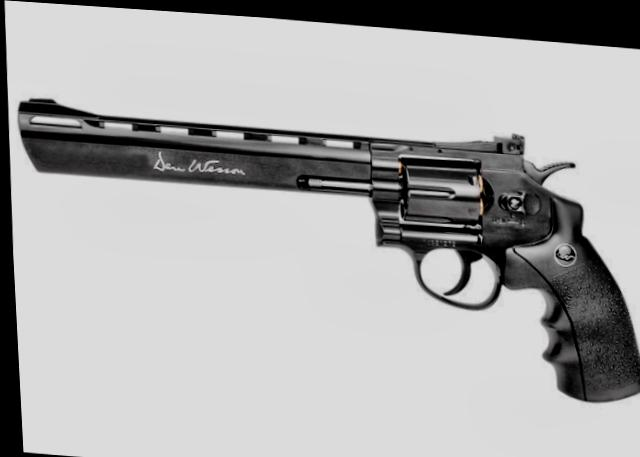pistol: (6, 91, 640, 409)
